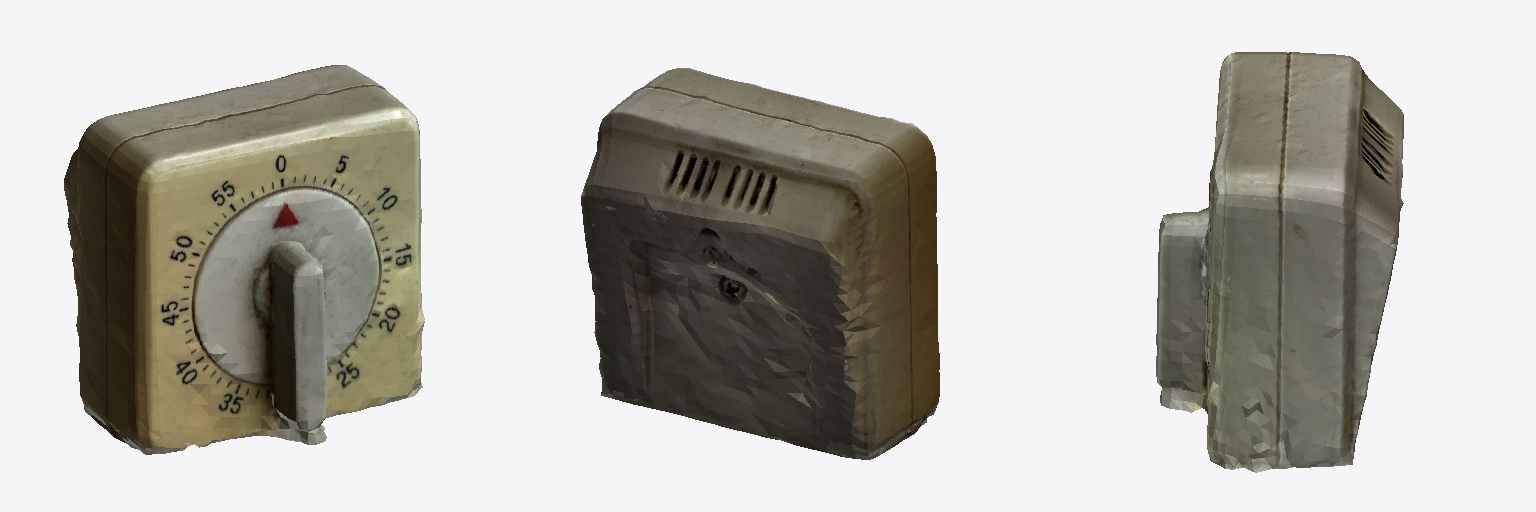
3 views of the same model, side by side, from view 1: azimuth 30°, elevation 25°; view 2: azimuth 150°, elevation 25°; view 3: azimuth 270°, elevation 25° (orthographic).
Visible parts, largest first — view 1: Casovac_Lowpoly_model.056; view 2: Casovac_Lowpoly_model.056; view 3: Casovac_Lowpoly_model.056.
Part boxes in pixels (x1,y1,x2,y2): Casovac_Lowpoly_model.056: (64,65,424,454); Casovac_Lowpoly_model.056: (581,68,939,459); Casovac_Lowpoly_model.056: (1156,52,1403,472).
Bounding box in the file's own units: 2.64 × 2.48 × 1.92.
1 materials, 1 textured.